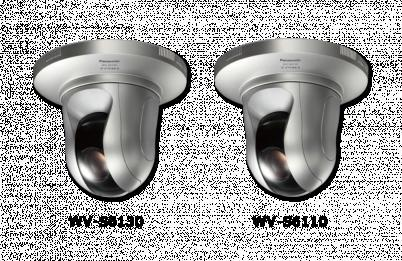maru: (33, 39, 190, 201)
